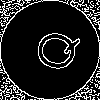Q: (25, 25, 82, 75)
